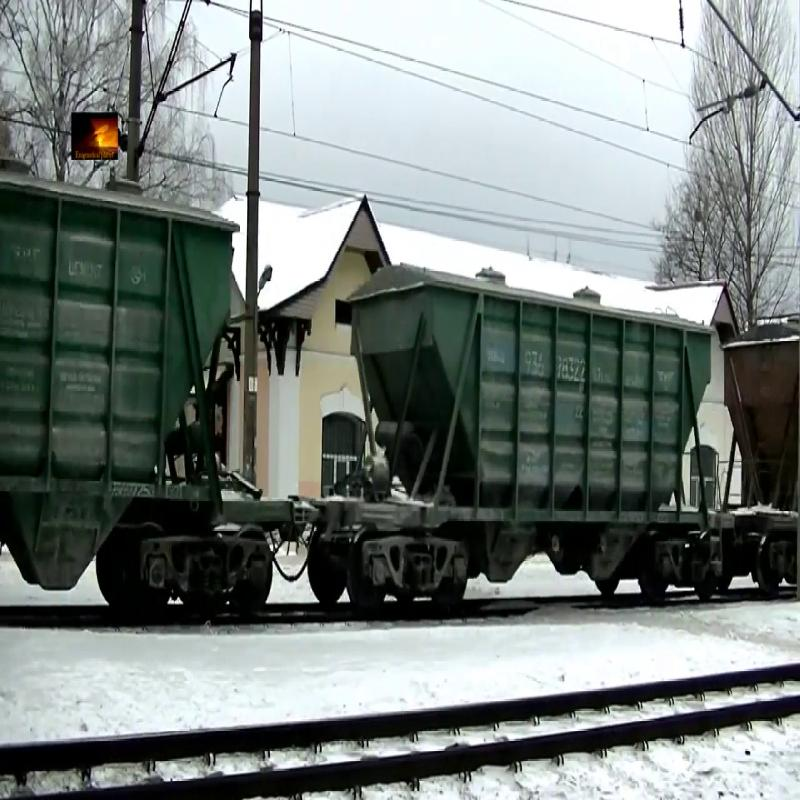train: (320, 262, 727, 606), (1, 185, 258, 620)
